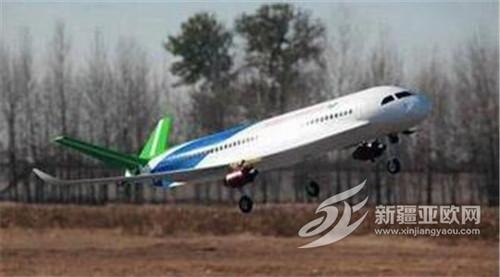airplane: (30, 77, 434, 192)
